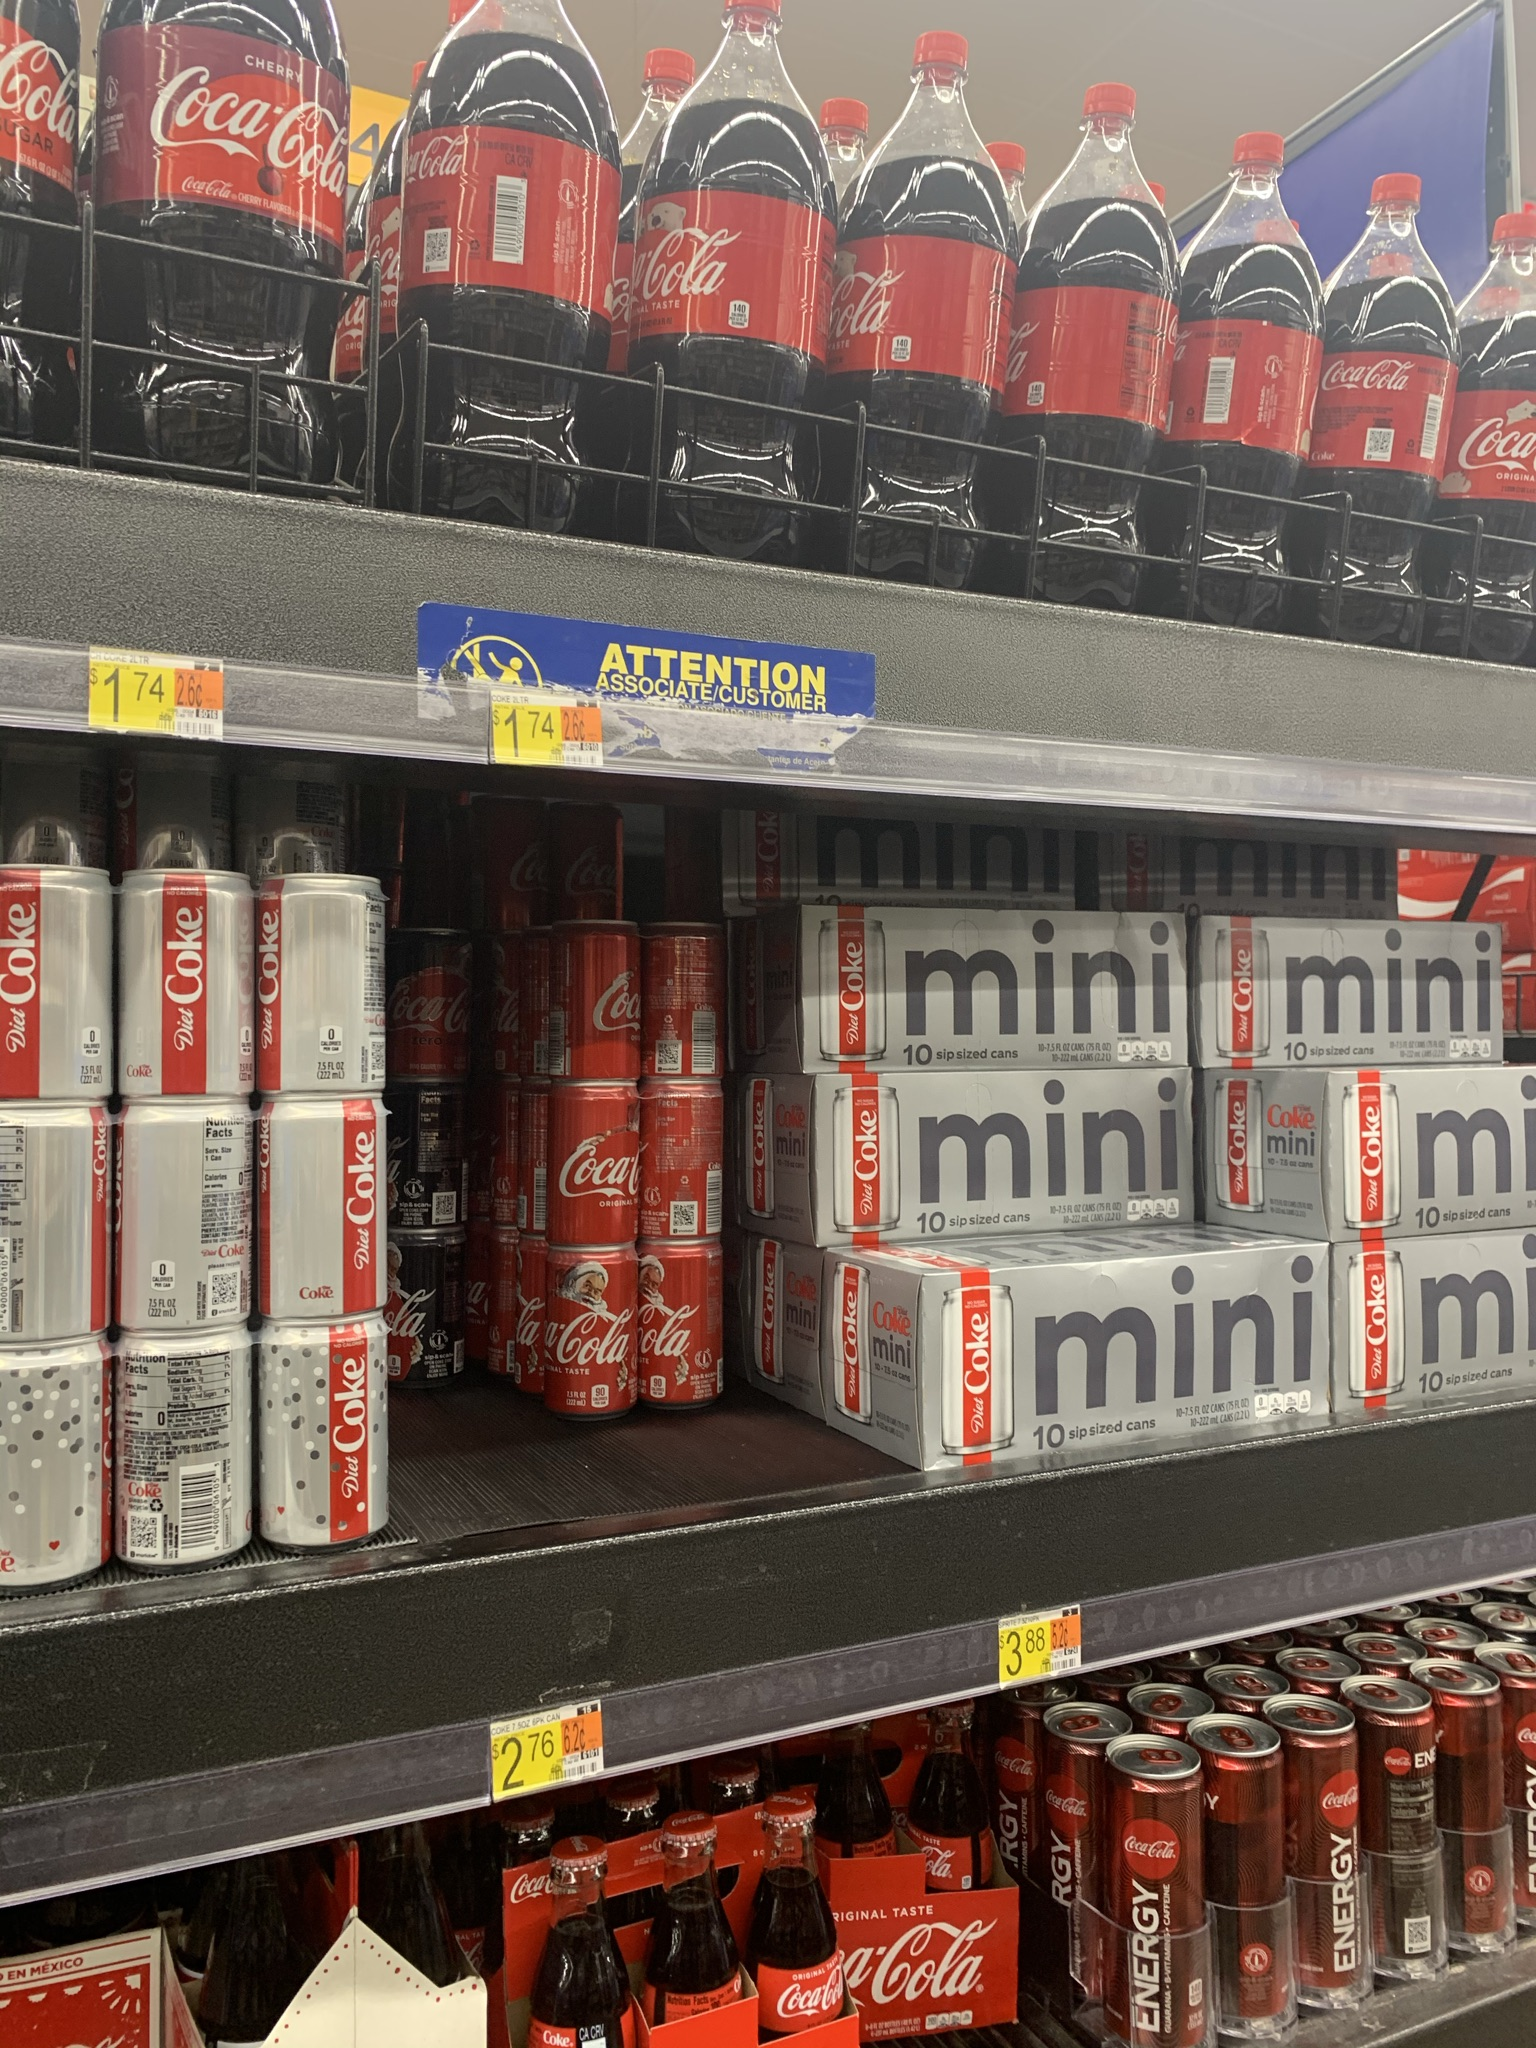Soda: (403, 3, 618, 524), (634, 6, 829, 552), (837, 26, 1013, 589), (1012, 79, 1181, 613), (1181, 127, 1321, 627), (1318, 171, 1462, 650), (807, 1069, 1197, 1242), (803, 898, 1192, 1069), (1192, 921, 1504, 1064), (1097, 1734, 1207, 2048), (115, 863, 258, 1100), (115, 1334, 257, 1563), (116, 1097, 250, 1334), (253, 1095, 390, 1321), (253, 1324, 390, 1542), (1200, 1748, 1297, 2045), (261, 869, 386, 1097), (2, 1105, 116, 1342), (2, 860, 111, 1100), (2, 1347, 111, 1584), (1289, 1722, 1376, 2014), (542, 1247, 637, 1422), (550, 1072, 641, 1250), (553, 914, 644, 1077), (642, 1240, 728, 1405), (641, 913, 721, 1077), (649, 1072, 726, 1242)
